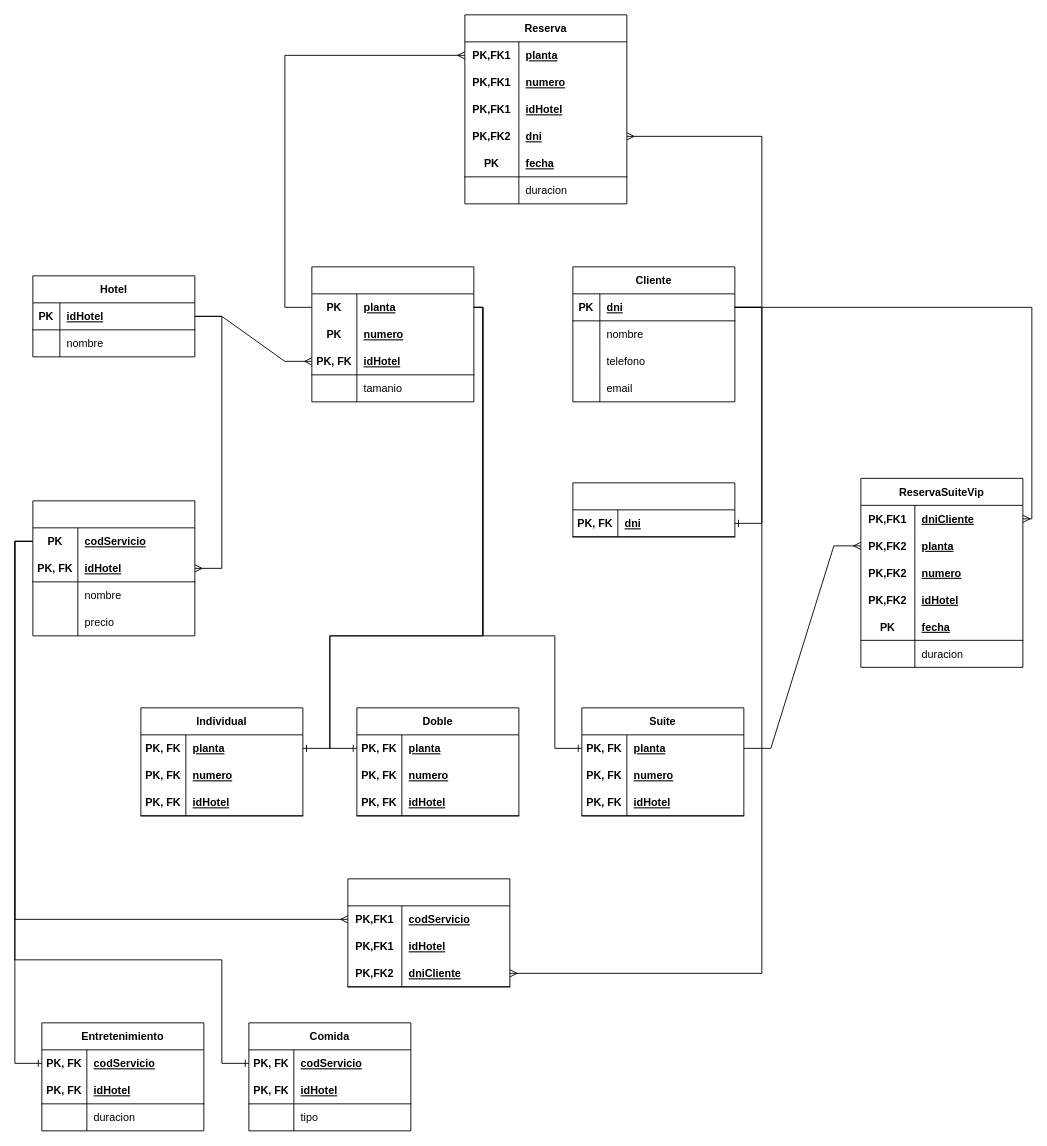
This 1047x1146 diagram has some shape labels left out. Here are the shapes that lost their labels. From the top down, the box of each, then its label:
(311, 266, 474, 402): Habitacion
(572, 482, 735, 537): ClienteVip
(32, 500, 195, 636): Servicios
(347, 878, 510, 987): Utiliza
